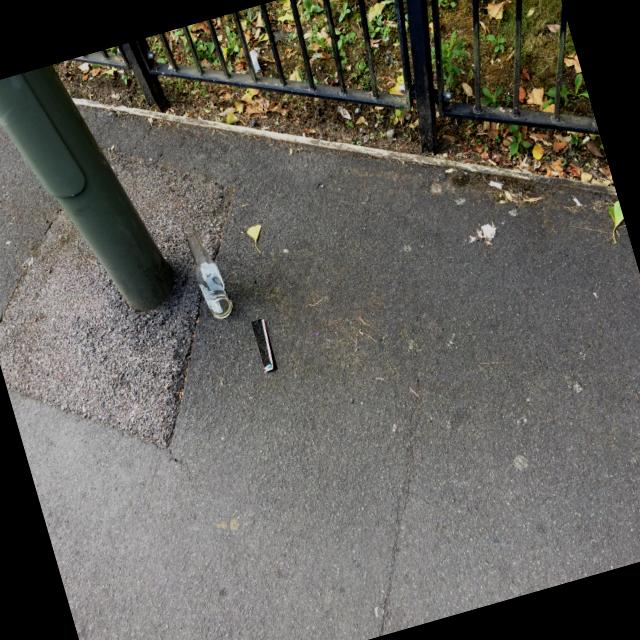Glass bottle: (184, 222, 232, 318)
Straw: (261, 318, 273, 372)
Unlabeled litter: (249, 49, 260, 71)
